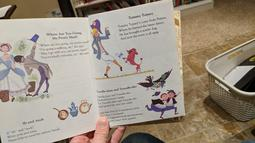text block: (93, 83, 147, 123), (113, 8, 171, 42), (2, 115, 66, 143), (38, 27, 92, 60)
